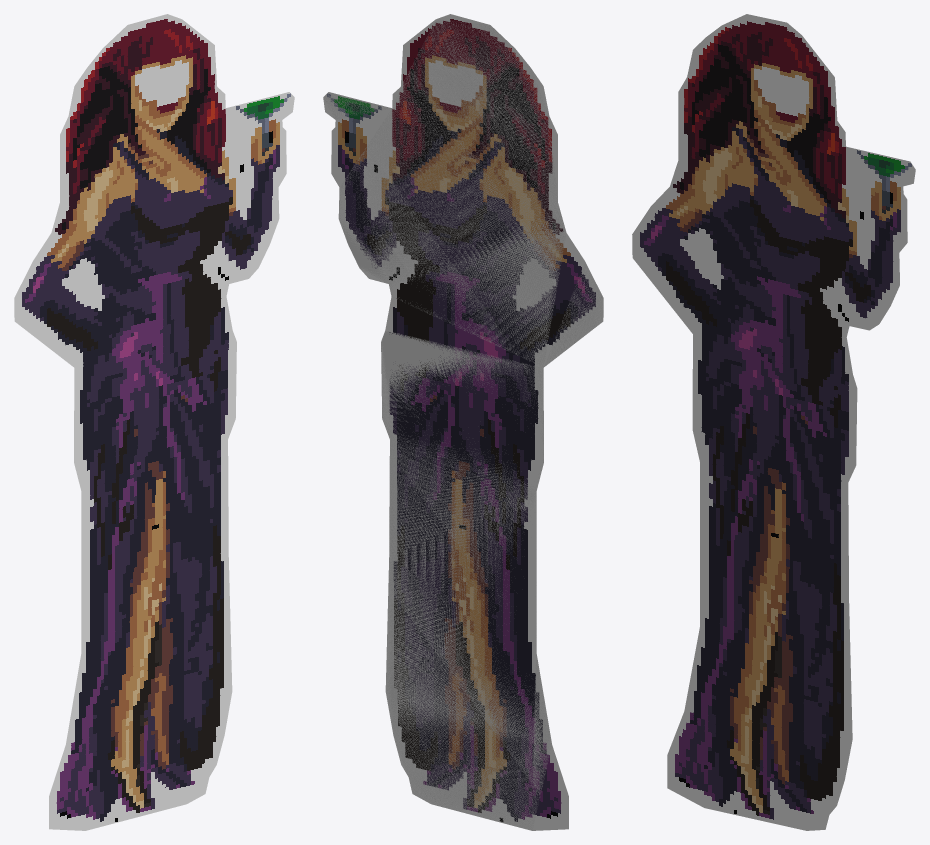
The model's file is Lady.glb.
3 views of the same model, side by side, from view 1: azimuth 30°, elevation 25°; view 2: azimuth 150°, elevation 25°; view 3: azimuth 330°, elevation 25° (orthographic).
Visible parts, largest first — view 1: Lady; view 2: Lady, Vert.001; view 3: Lady.
Part boxes in pixels (x1=…): Lady: x1=14, y1=14, x2=294, y2=830; Lady: x1=323, y1=14, x2=603, y2=830; Vert.001: x1=323, y1=19, x2=603, y2=830; Lady: x1=632, y1=14, x2=915, y2=830.
Bounding box in the file's own units: 0.654 × 1.77 × 2.38e-07.
1 material, 1 textured.
